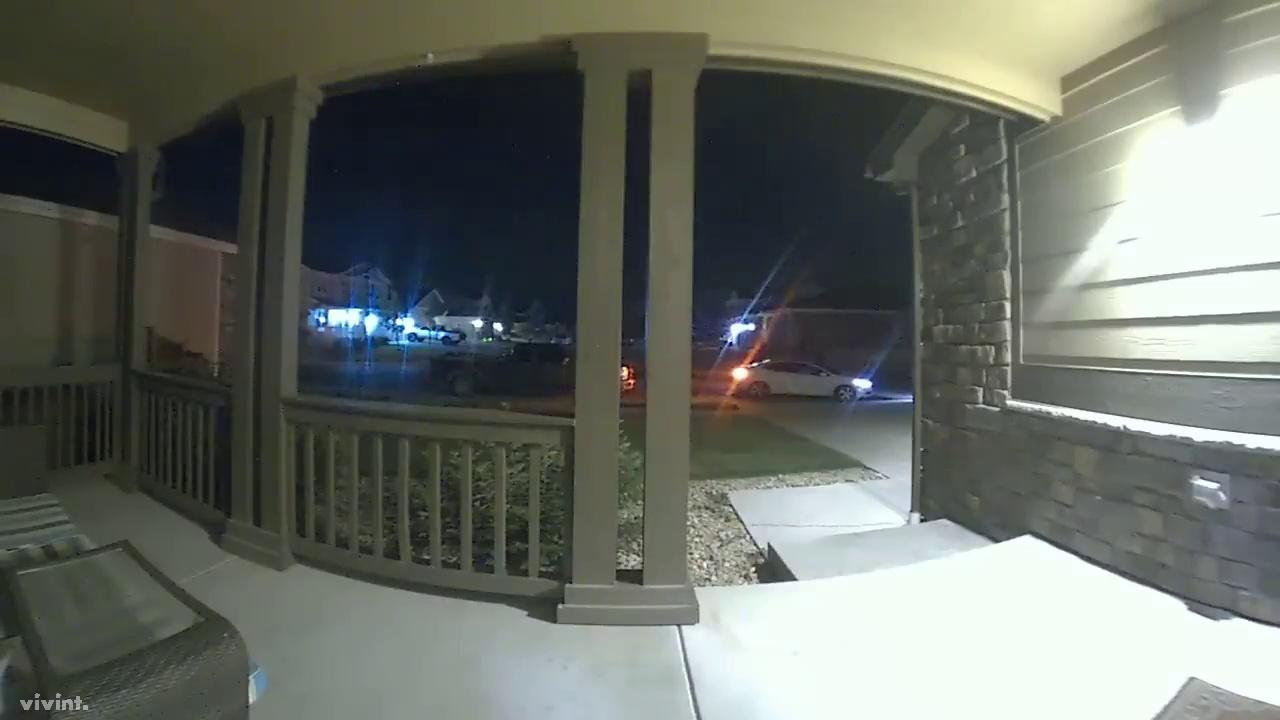suspicion: (410, 320, 634, 398), (720, 344, 884, 404), (402, 314, 470, 348)
